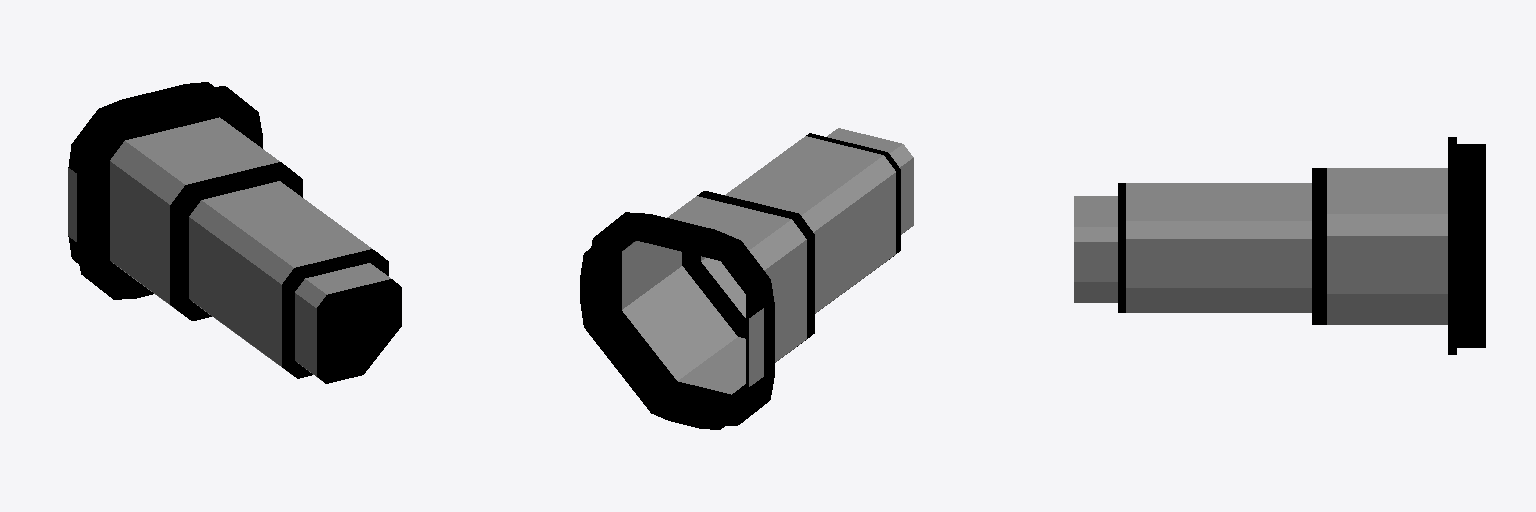
Rendered from skyscraper_windowF_06.obj.
3 renders of one model, left to right at view 1: azimuth 30°, elevation 25°; view 2: azimuth 150°, elevation 25°; view 3: azimuth 270°, elevation 25°, orthographic.
Parts seen in each view (by area): view 1: Object59; view 2: Object59; view 3: Object59.
Boxes of the visible parts, x1,y1,x2,y2 form: Object59: [68, 82, 401, 383]; Object59: [580, 128, 913, 429]; Object59: [1074, 137, 1485, 354].
Bounding box in the file's own units: 52.71 × 52.84 × 103.